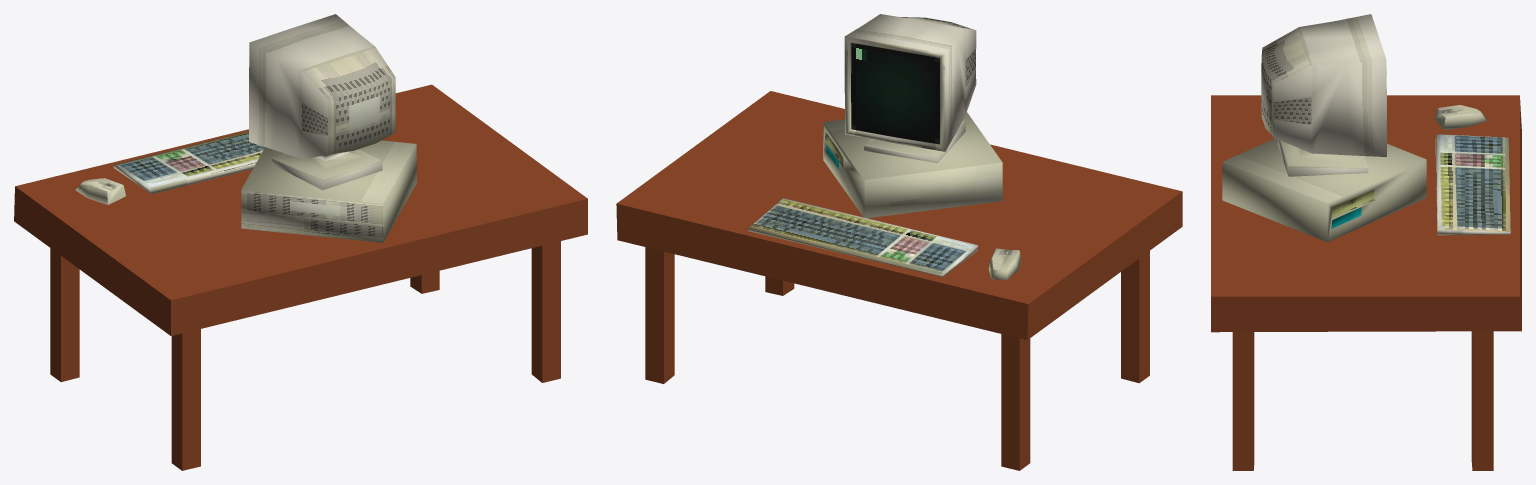
Rendered from computer_and_desk.glb.
3 renders of one model, left to right at view 1: azimuth 30°, elevation 25°; view 2: azimuth 150°, elevation 25°; view 3: azimuth 270°, elevation 25°, orthographic.
Bounding box in the file's own units: 5.27 × 4.16 × 3.44.
2 materials, 2 textured.
